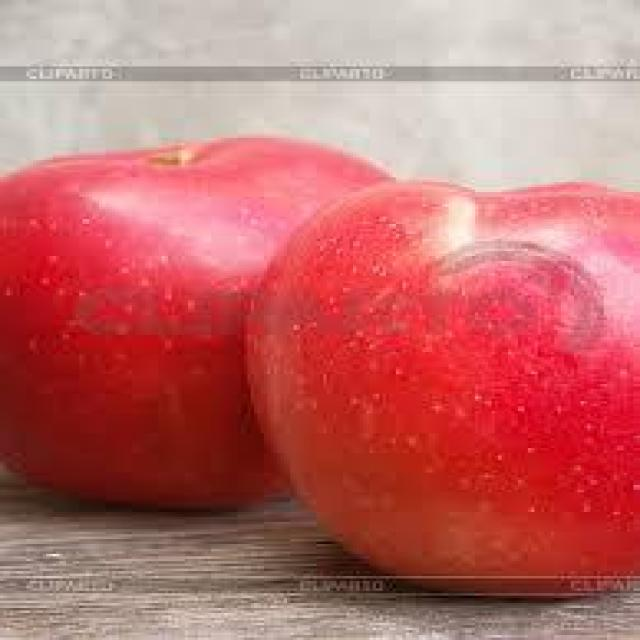maca: (241, 175, 637, 598), (0, 133, 393, 512)
